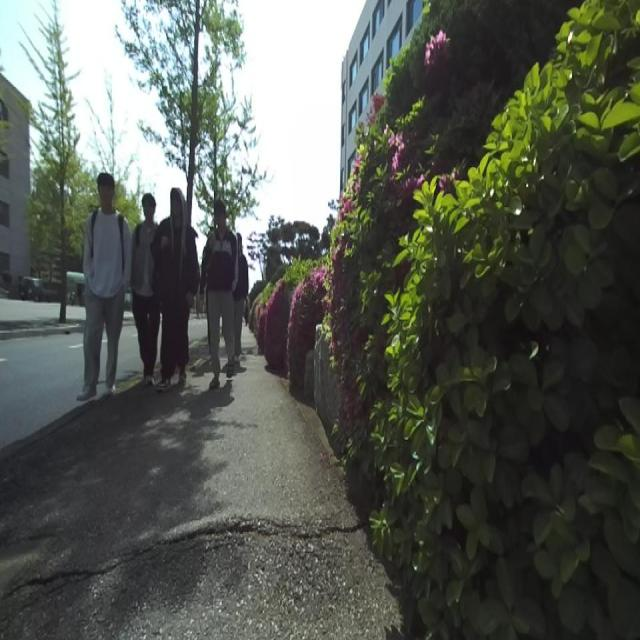sidewalk: (0, 335, 401, 639)
